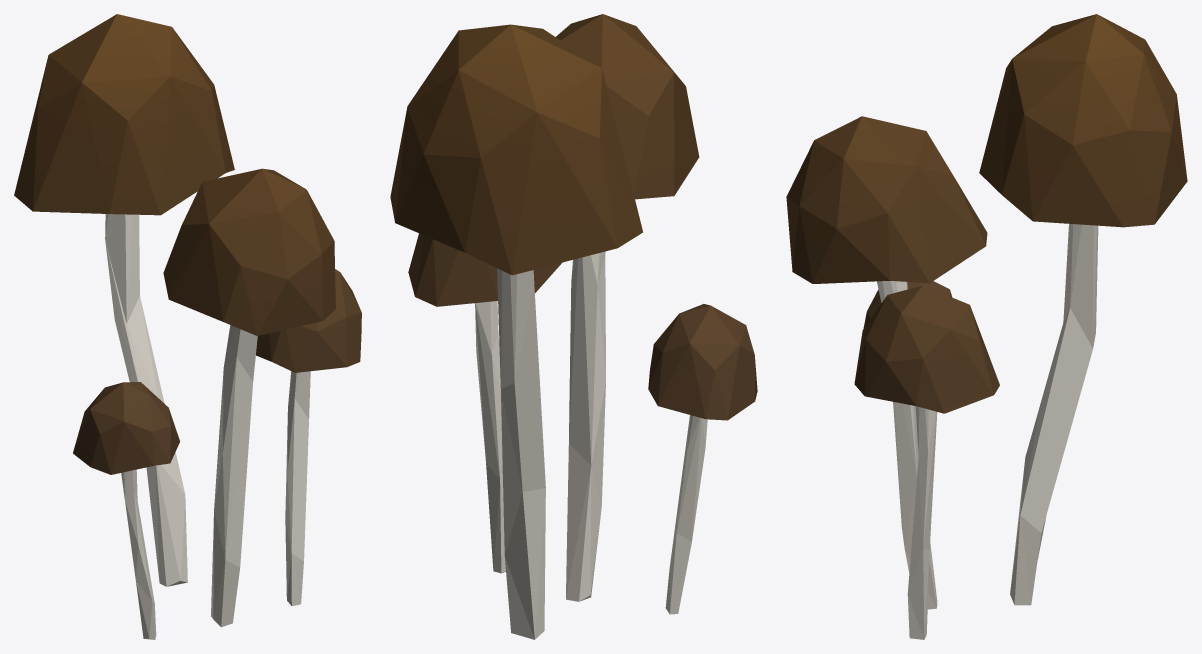
Rendered from Mushroom_05.fbx.
The picture shows the model from 3 angles, left to right: view 1: azimuth 30°, elevation 25°; view 2: azimuth 150°, elevation 25°; view 3: azimuth 270°, elevation 25°; orthographic projection. The views are drawn at different scales.
Parts seen in each view (by area): view 1: Mushroom_05; view 2: Mushroom_05; view 3: Mushroom_05.
Boxes of the visible parts, x1,y1,x2,y2 form: Mushroom_05: (14, 14, 361, 639); Mushroom_05: (390, 14, 757, 639); Mushroom_05: (786, 14, 1187, 639).
Size of the model in its own units: 0.1441 by 0.2758 by 0.1721.
